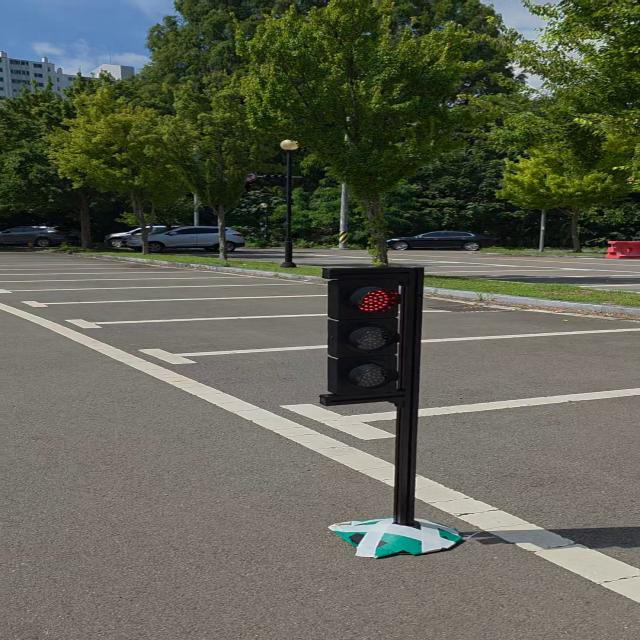red: (320, 268, 413, 400)
